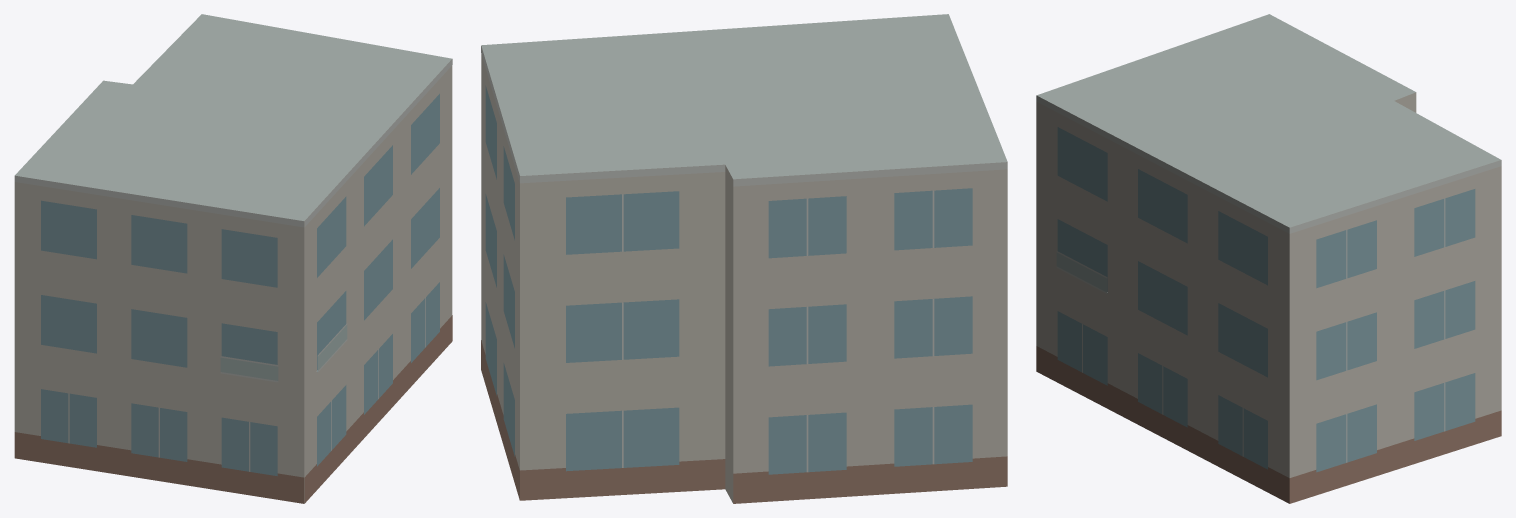
File: survey-upis-32646865.glb
3 views of the same model, side by side, from view 1: azimuth 30°, elevation 25°; view 2: azimuth 150°, elevation 25°; view 3: azimuth 270°, elevation 25° (orthographic). The views are drawn at different scales.
Visible parts, largest first — view 1: survey-upis-32646865.tmp; view 2: survey-upis-32646865.tmp; view 3: survey-upis-32646865.tmp.
Part boxes in pixels (left/top/right/bottom): survey-upis-32646865.tmp: left=14, top=14, right=452, bottom=503; survey-upis-32646865.tmp: left=481, top=14, right=1007, bottom=503; survey-upis-32646865.tmp: left=1036, top=14, right=1501, bottom=503.
Bounding box in the file's own units: 18.1 × 10.9 × 16.64.
